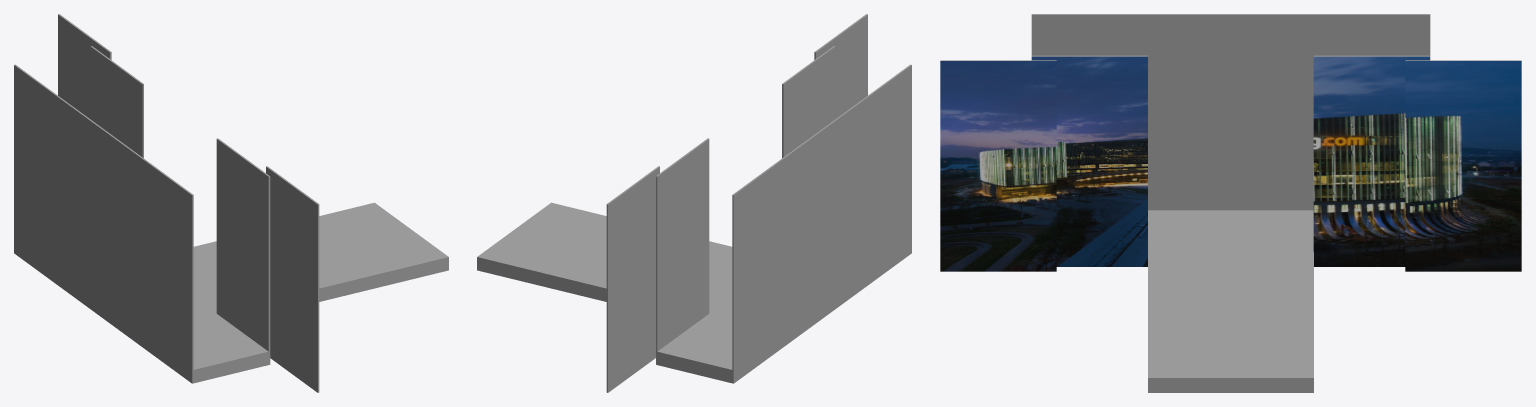
Rendered from stage02.fbx.
3 renders of one model, left to right at view 1: azimuth 30°, elevation 25°; view 2: azimuth 150°, elevation 25°; view 3: azimuth 270°, elevation 25°, orthographic. The views are drawn at different scales.
Parts seen in each view (by area): view 1: Back Wall, polySurface4, Runway; view 2: Back Wall, polySurface4, Runway; view 3: polySurface5, Back Wall, Runway, polySurface4.
Boxes of the visible parts, box(x1,y1,x2,y2) form: Back Wall: box(14, 64, 193, 383); polySurface4: box(58, 14, 319, 392); Runway: box(193, 202, 448, 383); Back Wall: box(732, 64, 911, 383); polySurface4: box(606, 14, 867, 392); Runway: box(477, 202, 911, 383); polySurface5: box(940, 56, 1521, 271); Back Wall: box(1031, 14, 1430, 210); Runway: box(1148, 210, 1313, 392); polySurface4: box(940, 55, 1521, 60).
Bounding box in the file's own units: 1200 × 700 × 1750.
